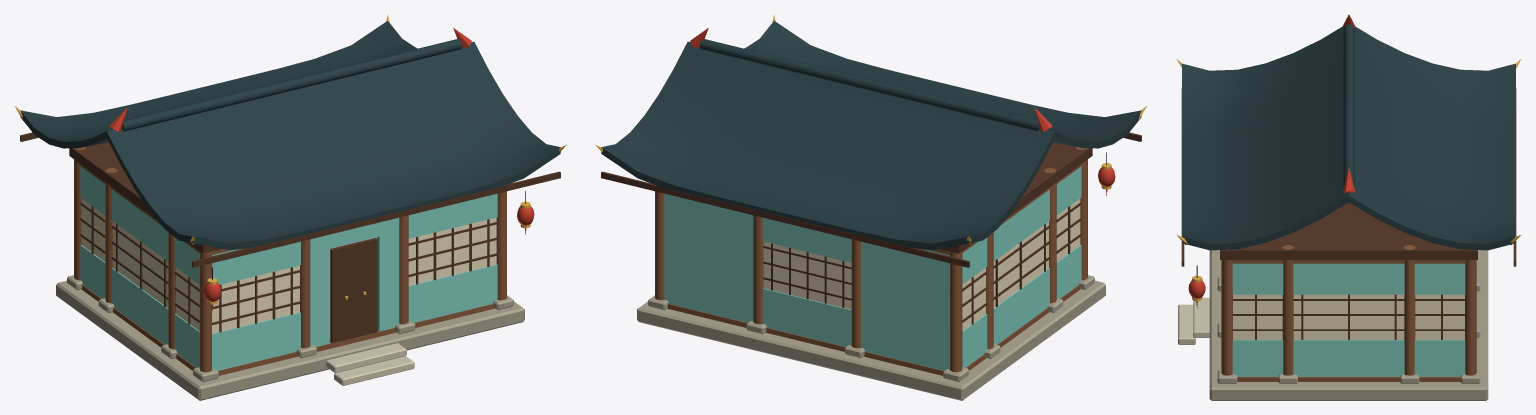
File: house_teal.glb
3 views of the same model, side by side, from view 1: azimuth 30°, elevation 25°; view 2: azimuth 150°, elevation 25°; view 3: azimuth 270°, elevation 25° (orthographic). The views are drawn at different scales.
Visible parts, largest first — view 1: HouseTeal; view 2: HouseTeal; view 3: HouseTeal.
Part boxes in pixels (left/top/right/bottom): HouseTeal: left=14, top=14, right=566, bottom=400; HouseTeal: left=595, top=14, right=1147, bottom=400; HouseTeal: left=1177, top=14, right=1521, bottom=400.
Size of what is drawn, in the model's own units: 8.23 by 5.18 by 6.82.
